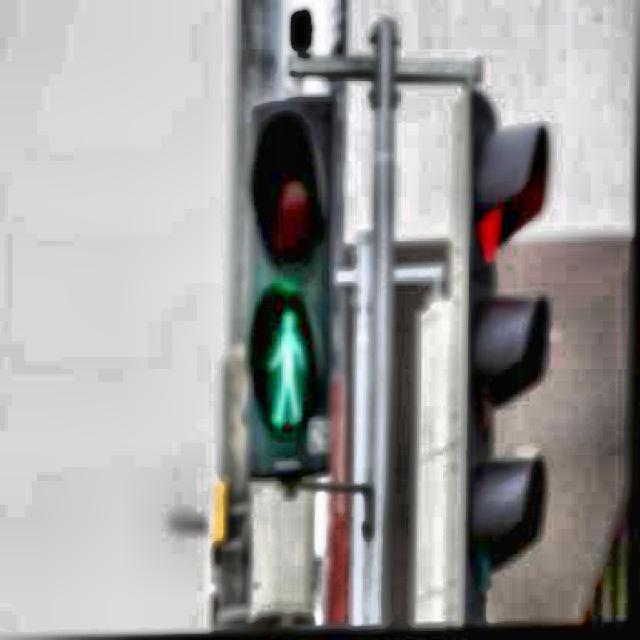semaforo pedestre: (210, 76, 396, 542)
